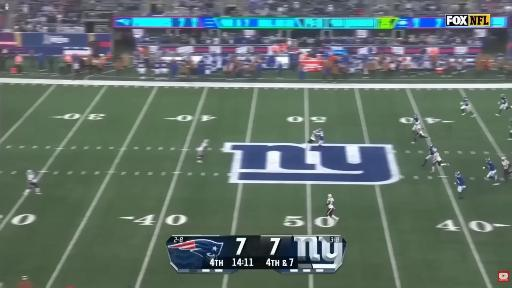Helmet: (455, 171, 460, 177), (501, 156, 507, 161), (486, 156, 491, 161), (433, 148, 437, 153), (319, 127, 323, 131), (315, 129, 319, 133), (204, 139, 209, 142), (500, 94, 505, 97), (414, 115, 418, 118), (430, 144, 433, 148), (328, 194, 331, 197), (27, 169, 30, 172)
Jersey: (314, 129, 324, 141), (456, 174, 465, 186), (433, 152, 442, 162), (198, 142, 208, 151), (27, 173, 37, 182), (487, 160, 495, 171), (502, 160, 510, 170), (327, 198, 334, 209), (500, 96, 507, 105), (414, 125, 421, 134), (429, 146, 436, 155), (413, 115, 419, 125), (310, 132, 316, 140), (463, 98, 469, 106)
Player: (24, 170, 41, 194), (431, 152, 449, 172), (412, 124, 428, 143), (496, 95, 511, 115), (422, 146, 437, 166), (327, 194, 338, 221), (483, 159, 497, 180), (461, 97, 474, 117), (197, 140, 208, 162), (456, 172, 465, 198), (502, 156, 511, 180), (315, 129, 324, 145), (412, 115, 420, 132), (308, 131, 317, 144), (508, 119, 511, 140)
